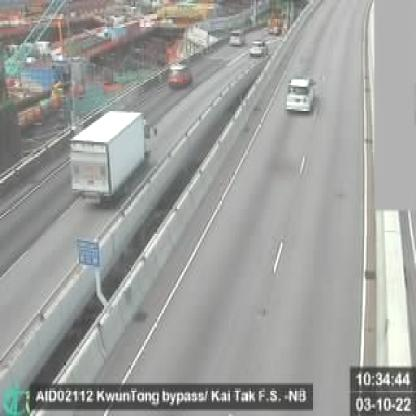Car: (284, 76, 314, 113), (167, 64, 191, 90), (247, 40, 267, 55), (229, 28, 243, 42)
Truck: (70, 109, 156, 201)
